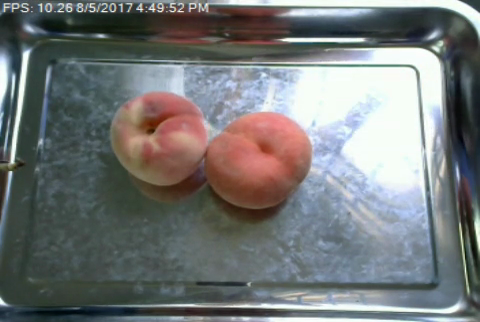Peach: (202, 111, 312, 208), (109, 89, 208, 188)
